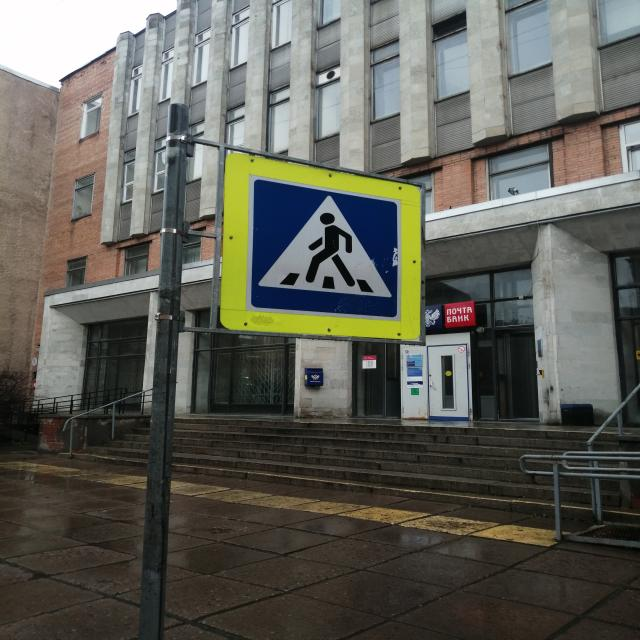road sign: (218, 149, 422, 341)
